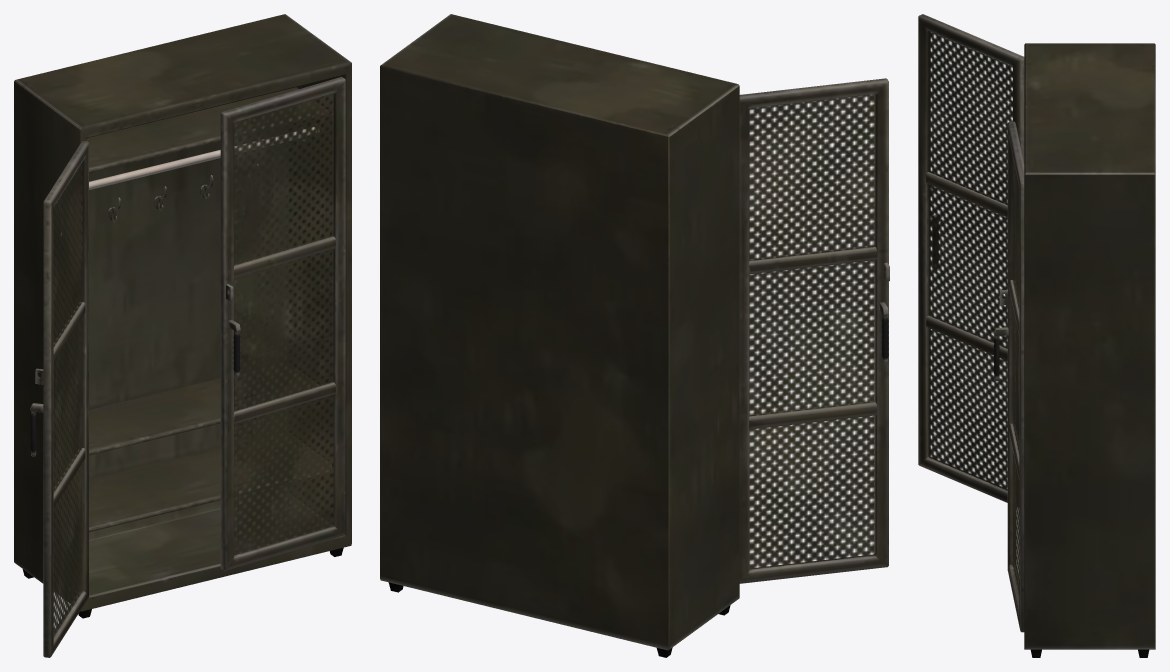
The model's file is locker_equipment.glb.
3 views of the same model, side by side, from view 1: azimuth 30°, elevation 25°; view 2: azimuth 150°, elevation 25°; view 3: azimuth 270°, elevation 25° (orthographic). The views are drawn at different scales.
Parts seen in each view (by area): view 1: locker_Equip_01, locker_Equip_01_R_Door, locker_Equip_01_L_Door; view 2: locker_Equip_01, locker_Equip_01_L_Door; view 3: locker_Equip_01, locker_Equip_01_L_Door, locker_Equip_01_R_Door.
Boxes of the visible parts, box(x1,y1,x2,y2) form: locker_Equip_01: box(14, 14, 351, 618); locker_Equip_01_R_Door: box(220, 77, 345, 570); locker_Equip_01_L_Door: box(30, 141, 88, 657); locker_Equip_01: box(380, 14, 739, 657); locker_Equip_01_L_Door: box(739, 78, 889, 583); locker_Equip_01: box(1024, 43, 1155, 657); locker_Equip_01_L_Door: box(918, 14, 1024, 506); locker_Equip_01_R_Door: box(993, 121, 1024, 632).
Bounding box in the file's own units: 1.59 × 2.05 × 0.9033.
Materials: 2 (2 with a texture image).
